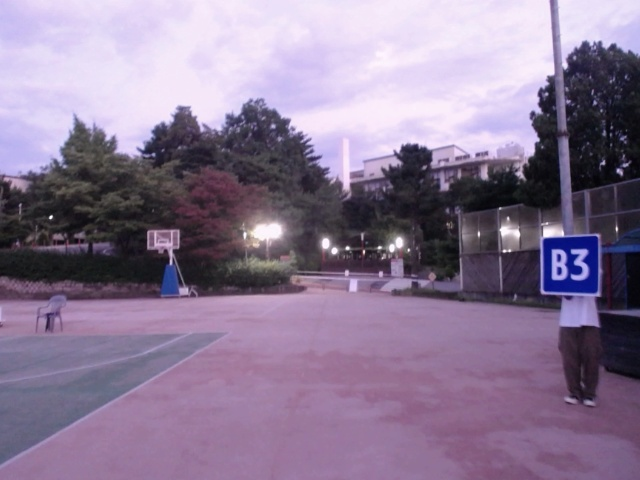delivery_b3: (540, 235, 601, 298)
